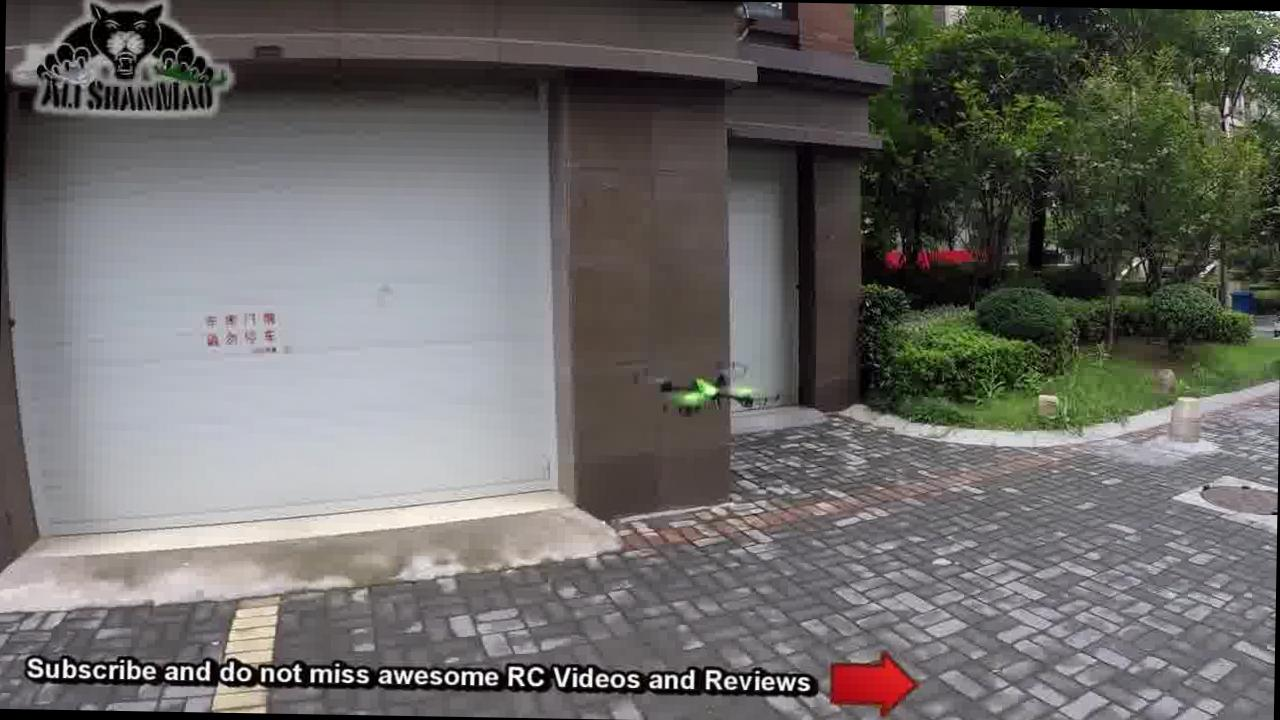drone: (632, 345, 800, 439)
